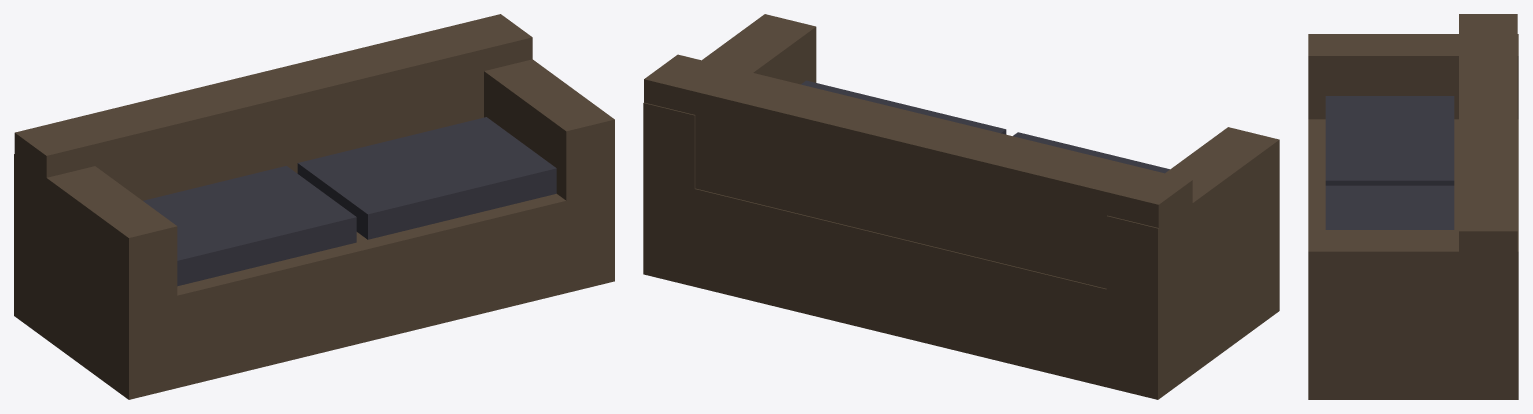
Rendered from PRP_Couch_A.glb.
3 renders of one model, left to right at view 1: azimuth 30°, elevation 25°; view 2: azimuth 150°, elevation 25°; view 3: azimuth 270°, elevation 25°, orthographic. The views are drawn at different scales.
Visible parts, largest first — view 1: PRP_Couch_A_Seat, PRP_Couch_A_Back, PRP_Couch_A_CushionR, PRP_Couch_A_ArmL, PRP_Couch_A_CushionL, PRP_Couch_A_ArmR; view 2: PRP_Couch_A_Seat, PRP_Couch_A_Back, PRP_Couch_A_ArmL, PRP_Couch_A_ArmR, PRP_Couch_A_CushionR, PRP_Couch_A_CushionL; view 3: PRP_Couch_A_Seat, PRP_Couch_A_ArmR, PRP_Couch_A_Back, PRP_Couch_A_CushionL, PRP_Couch_A_ArmL, PRP_Couch_A_CushionR.
Part boxes in pixels (bbox=[...]): PRP_Couch_A_Seat: bbox=[14, 189, 614, 399]; PRP_Couch_A_Back: bbox=[14, 14, 532, 259]; PRP_Couch_A_CushionR: bbox=[297, 117, 556, 239]; PRP_Couch_A_ArmL: bbox=[14, 154, 177, 307]; PRP_Couch_A_CushionL: bbox=[143, 166, 356, 286]; PRP_Couch_A_ArmR: bbox=[484, 59, 614, 200]; PRP_Couch_A_Seat: bbox=[643, 176, 1279, 399]; PRP_Couch_A_Back: bbox=[644, 54, 1192, 288]; PRP_Couch_A_ArmL: bbox=[1106, 127, 1279, 301]; PRP_Couch_A_ArmR: bbox=[643, 14, 816, 188]; PRP_Couch_A_CushionR: bbox=[801, 80, 1006, 134]; PRP_Couch_A_CushionL: bbox=[1013, 132, 1169, 173]; PRP_Couch_A_Seat: bbox=[1308, 119, 1518, 399]; PRP_Couch_A_ArmR: bbox=[1308, 230, 1518, 315]; PRP_Couch_A_Back: bbox=[1459, 14, 1517, 326]; PRP_Couch_A_CushionL: bbox=[1325, 96, 1454, 185]; PRP_Couch_A_ArmL: bbox=[1308, 34, 1518, 119]; PRP_Couch_A_CushionR: bbox=[1325, 185, 1454, 229].
Size of the model in its own units: 2.2 by 0.795 by 0.9.
